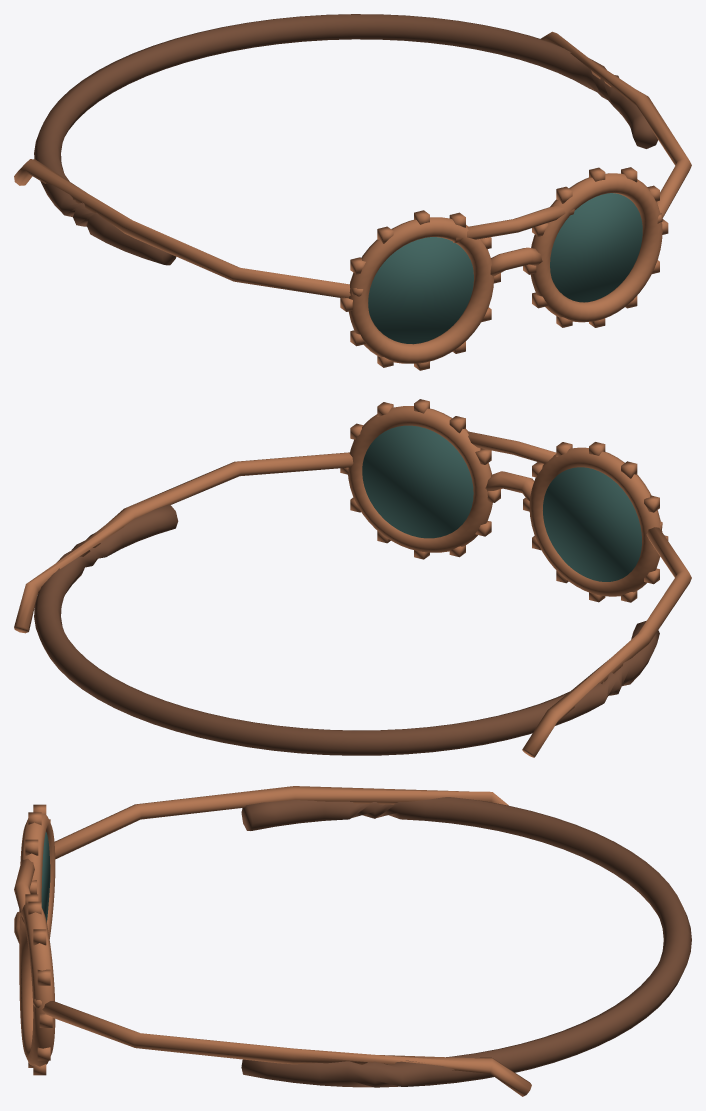
Rendered from 20-brass-goggles.glb.
The picture shows the model from 3 angles, top to bottom: view 1: azimuth 30°, elevation 25°; view 2: azimuth 150°, elevation 25°; view 3: azimuth 270°, elevation 25°; orthographic projection. The views are drawn at different scales.
Visible parts, largest first — view 1: Glasses20_LeatherStrap35, Glasses20_Lens-12, Glasses20_Rim-11, Glasses20_Lens14, Glasses20_Rim13, Glasses20_Temple-17, Glasses20_Temple19, Glasses20_UpperBridge6, Glasses20_Bridge5; view 2: Glasses20_LeatherStrap35, Glasses20_Lens14, Glasses20_Lens-12, Glasses20_Rim13, Glasses20_Rim-11, Glasses20_Temple19, Glasses20_Temple-17, Glasses20_UpperBridge6, Glasses20_Bridge5; view 3: Glasses20_LeatherStrap35, Glasses20_Temple19, Glasses20_Temple-17, Glasses20_Rim13, Glasses20_Rim-11, Glasses20_UpperBridge6, Glasses20_Lens-12.
Boxes of the visible parts, left/top/right/bottom form: Glasses20_LeatherStrap35: left=34, top=14, right=657, bottom=265; Glasses20_Lens-12: left=368, top=237, right=473, bottom=344; Glasses20_Rim-11: left=349, top=217, right=493, bottom=363; Glasses20_Lens14: left=550, top=193, right=642, bottom=302; Glasses20_Rim13: left=530, top=173, right=662, bottom=322; Glasses20_Temple-17: left=14, top=159, right=350, bottom=298; Glasses20_Temple19: left=540, top=31, right=691, bottom=218; Glasses20_UpperBridge6: left=453, top=205, right=574, bottom=242; Glasses20_Bridge5: left=490, top=247, right=542, bottom=276; Glasses20_LeatherStrap35: left=34, top=504, right=659, bottom=755; Glasses20_Lens14: left=362, top=425, right=473, bottom=538; Glasses20_Lens-12: left=543, top=467, right=641, bottom=581; Glasses20_Rim13: left=348, top=406, right=492, bottom=552; Glasses20_Rim-11: left=529, top=447, right=662, bottom=596; Glasses20_Temple19: left=14, top=452, right=353, bottom=633; Glasses20_Temple-17: left=522, top=527, right=691, bottom=757; Glasses20_UpperBridge6: left=467, top=431, right=556, bottom=463; Glasses20_Bridge5: left=485, top=471, right=534, bottom=501; Glasses20_LeatherStrap35: left=241, top=797, right=691, bottom=1087; Glasses20_Temple19: left=42, top=1001, right=531, bottom=1096; Glasses20_Temple-17: left=54, top=786, right=520, bottom=859; Glasses20_Rim13: left=19, top=903, right=55, bottom=1066; Glasses20_Rim-11: left=19, top=813, right=55, bottom=938; Glasses20_UpperBridge6: left=14, top=858, right=34, bottom=923; Glasses20_Lens-12: left=41, top=831, right=50, bottom=922.
Size of the model in its own units: 0.658 by 0.176 by 0.6717.
